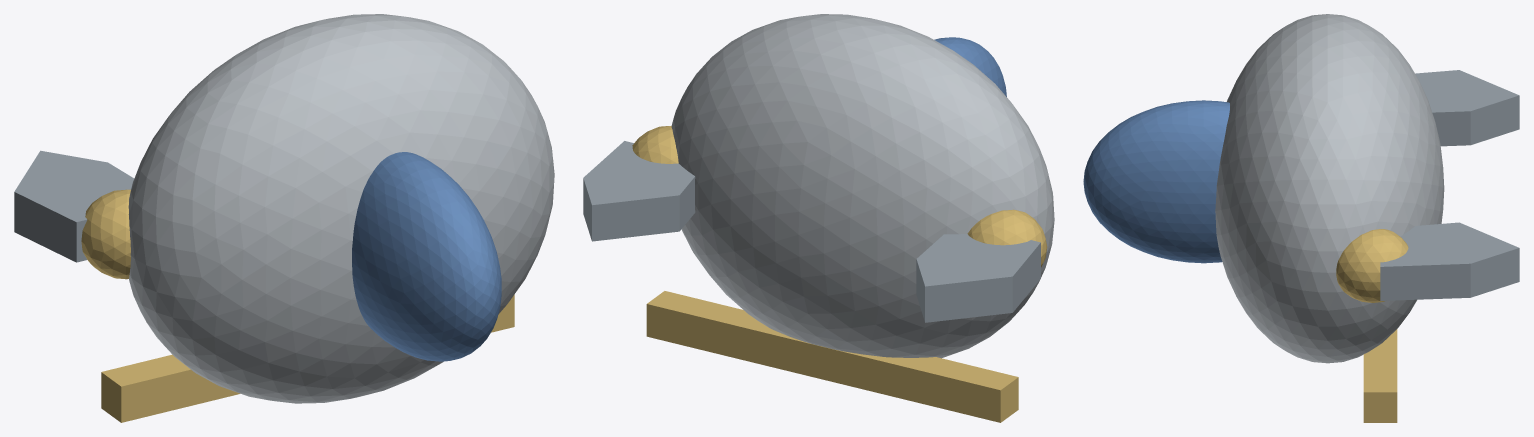
File: captain_helmet_blue_crest.glb
3 renders of one model, left to right at view 1: azimuth 30°, elevation 25°; view 2: azimuth 150°, elevation 25°; view 3: azimuth 270°, elevation 25°, orthographic. The views are drawn at different scales.
Parts seen in each view (by area): view 1: steel_dome, blue_crest, wing_cheek_guard, gold_brow_band, ear_disc; view 2: steel_dome, wing_cheek_guard (×2), gold_brow_band, ear_disc (×2), blue_crest; view 3: steel_dome, blue_crest, wing_cheek_guard (×2), ear_disc, gold_brow_band.
Boxes of the visible parts, box(x1,y1,x2,y2) form: steel_dome: box(128, 14, 554, 403); blue_crest: box(352, 152, 501, 361); wing_cheek_guard: box(14, 150, 134, 262); gold_brow_band: box(101, 294, 514, 422); ear_disc: box(81, 189, 130, 279); steel_dome: box(671, 14, 1054, 358); wing_cheek_guard (×2): box(583, 141, 1040, 322); gold_brow_band: box(646, 291, 1018, 422); ear_disc (×2): box(632, 126, 1047, 267); blue_crest: box(934, 37, 1006, 96); steel_dome: box(1215, 14, 1444, 363); blue_crest: box(1083, 100, 1229, 263); wing_cheek_guard (×2): box(1380, 70, 1519, 300); ear_disc: box(1336, 229, 1408, 302); gold_brow_band: box(1363, 329, 1397, 422).
Bounding box in the file's own units: 1.24 × 0.9 × 1.16.
